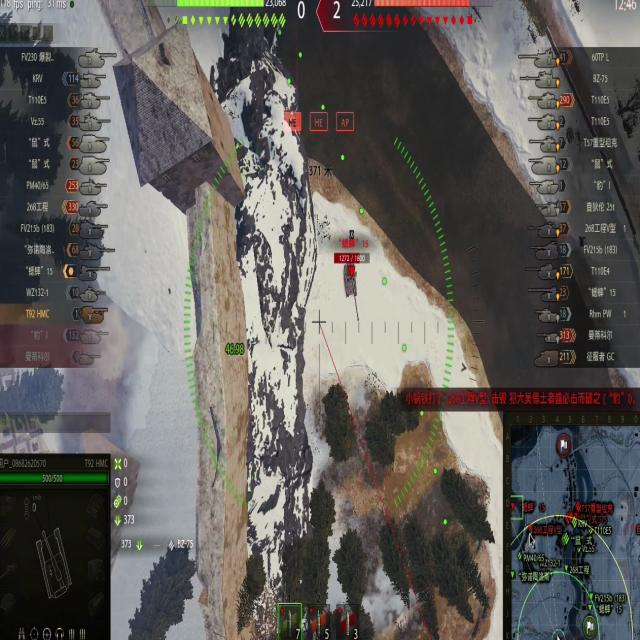tank: (333, 250, 373, 312)
